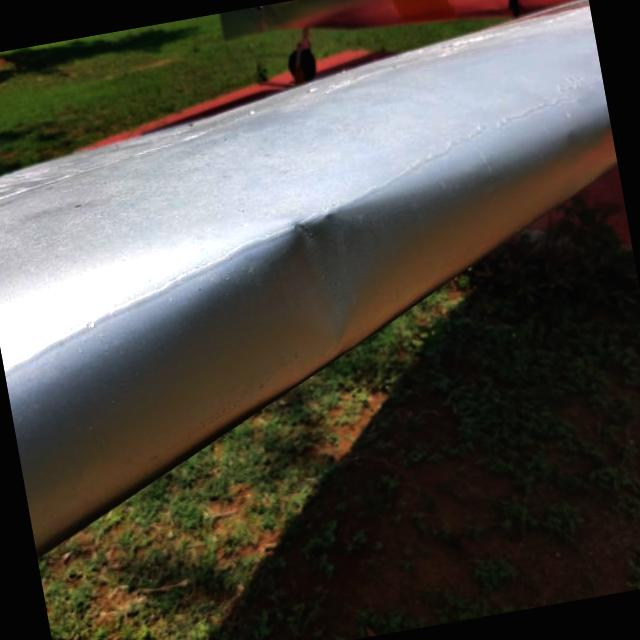dent: (252, 188, 395, 364)
